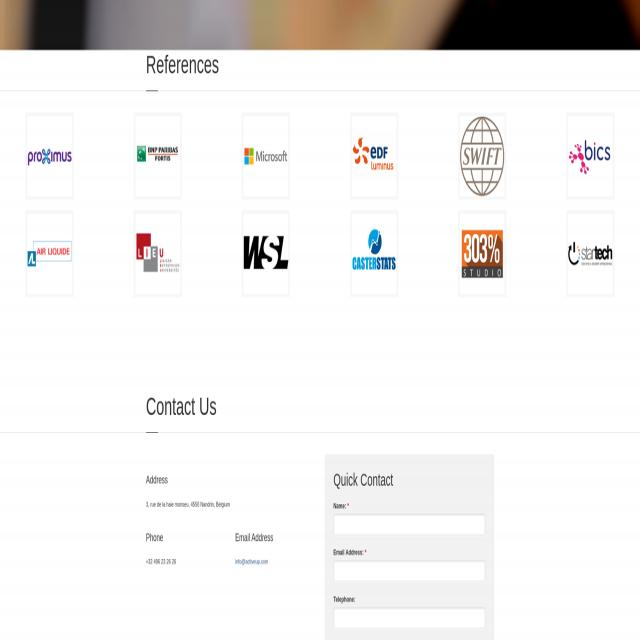button: (27, 116, 72, 196), (27, 214, 72, 294), (136, 116, 180, 196), (244, 116, 288, 196), (352, 116, 396, 196), (460, 116, 504, 196), (568, 116, 612, 196), (136, 214, 180, 294), (244, 214, 288, 294), (352, 214, 396, 294), (460, 214, 504, 294), (568, 214, 612, 294)
field: (333, 560, 485, 582), (333, 514, 485, 535), (333, 607, 485, 628)
